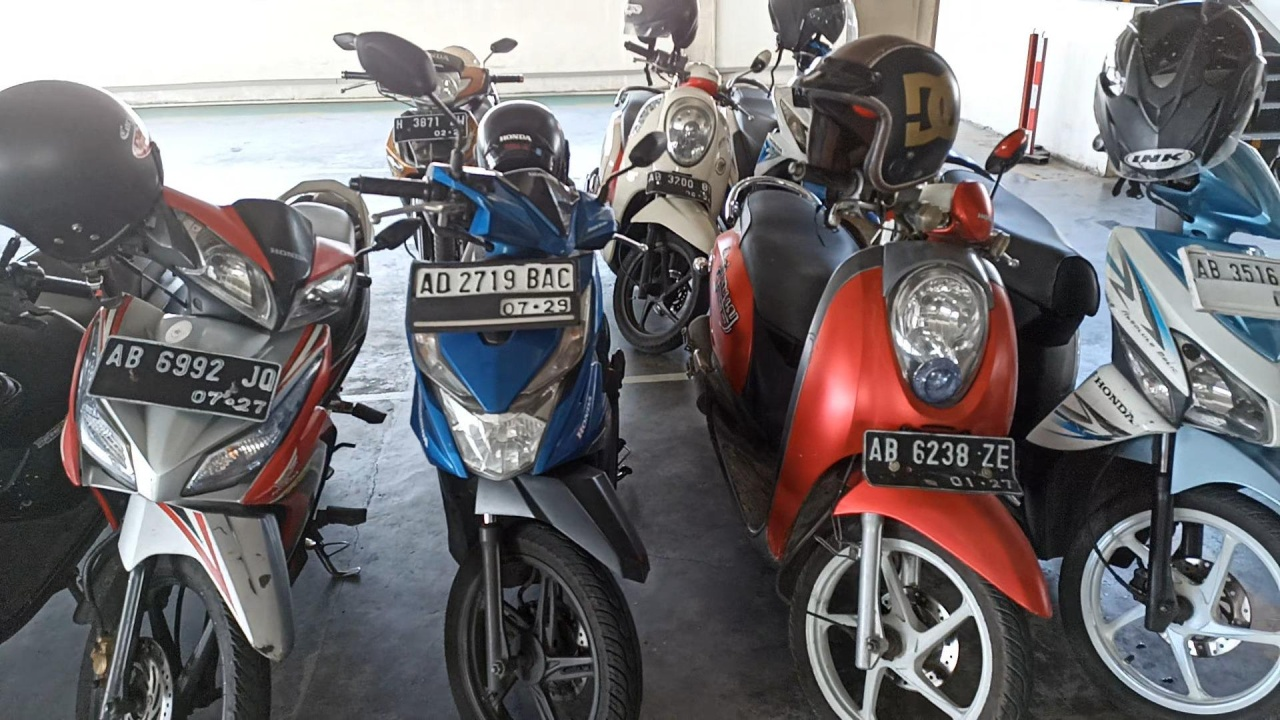plate: (88, 336, 281, 422), (412, 260, 579, 330), (864, 431, 1024, 494), (646, 171, 711, 211)
